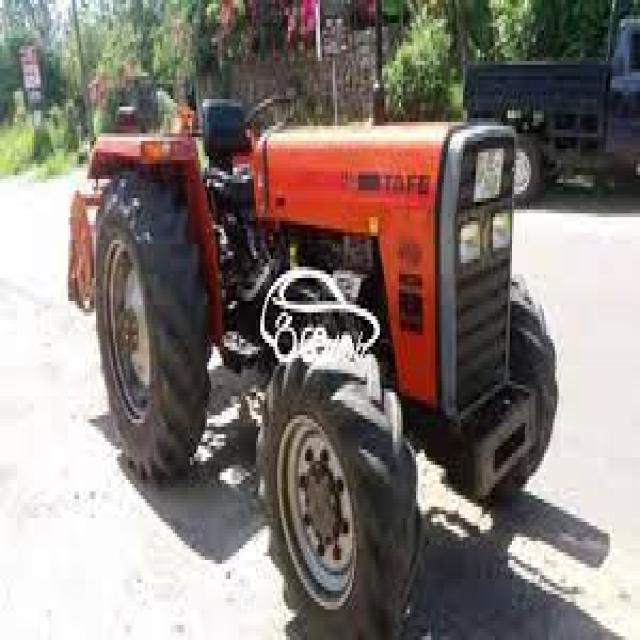tractor: (68, 99, 555, 636)
